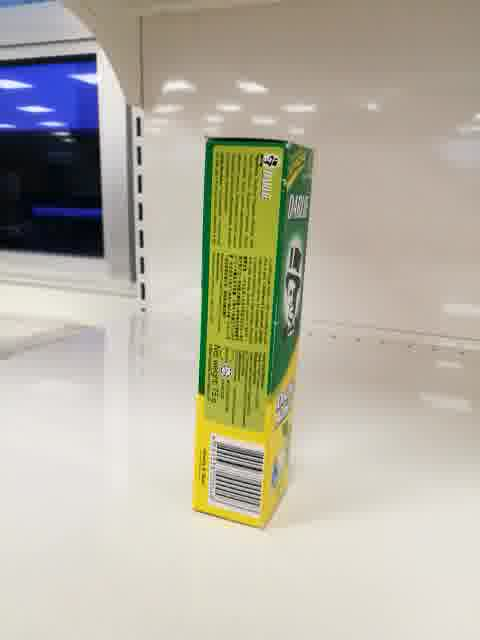toothpaste: (192, 136, 314, 531)
